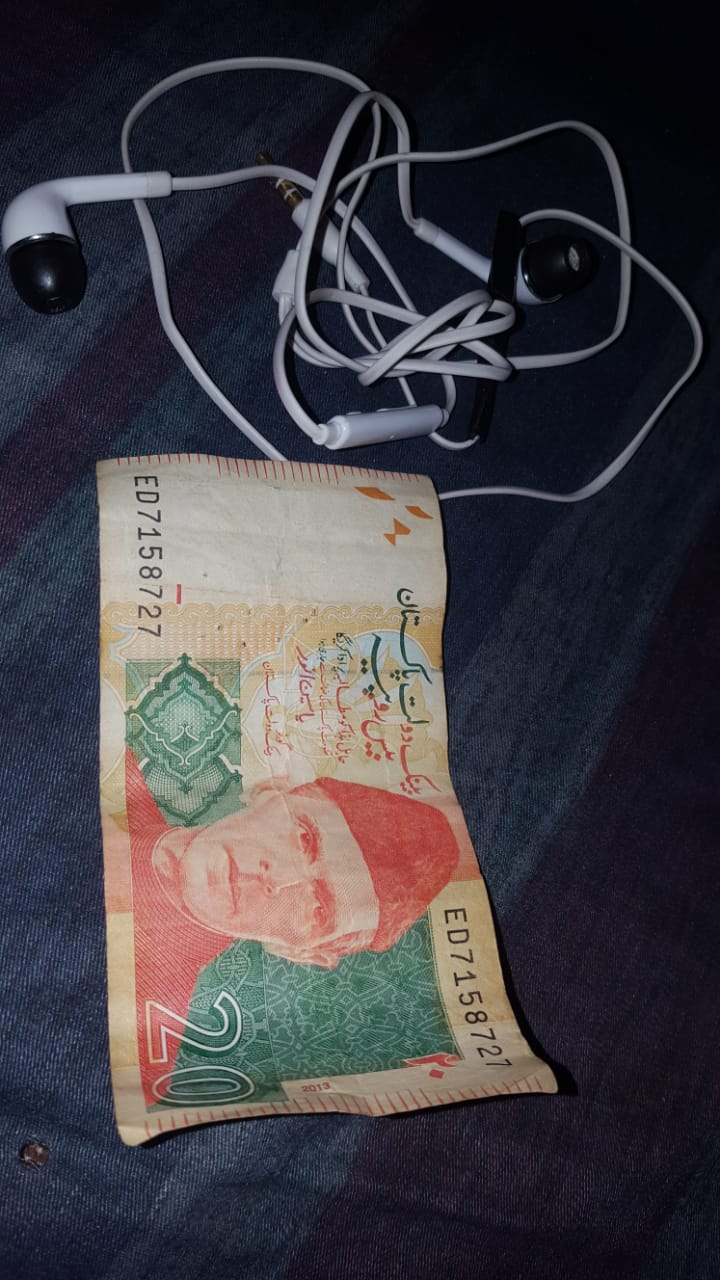20 rupee: (74, 438, 578, 1177)
